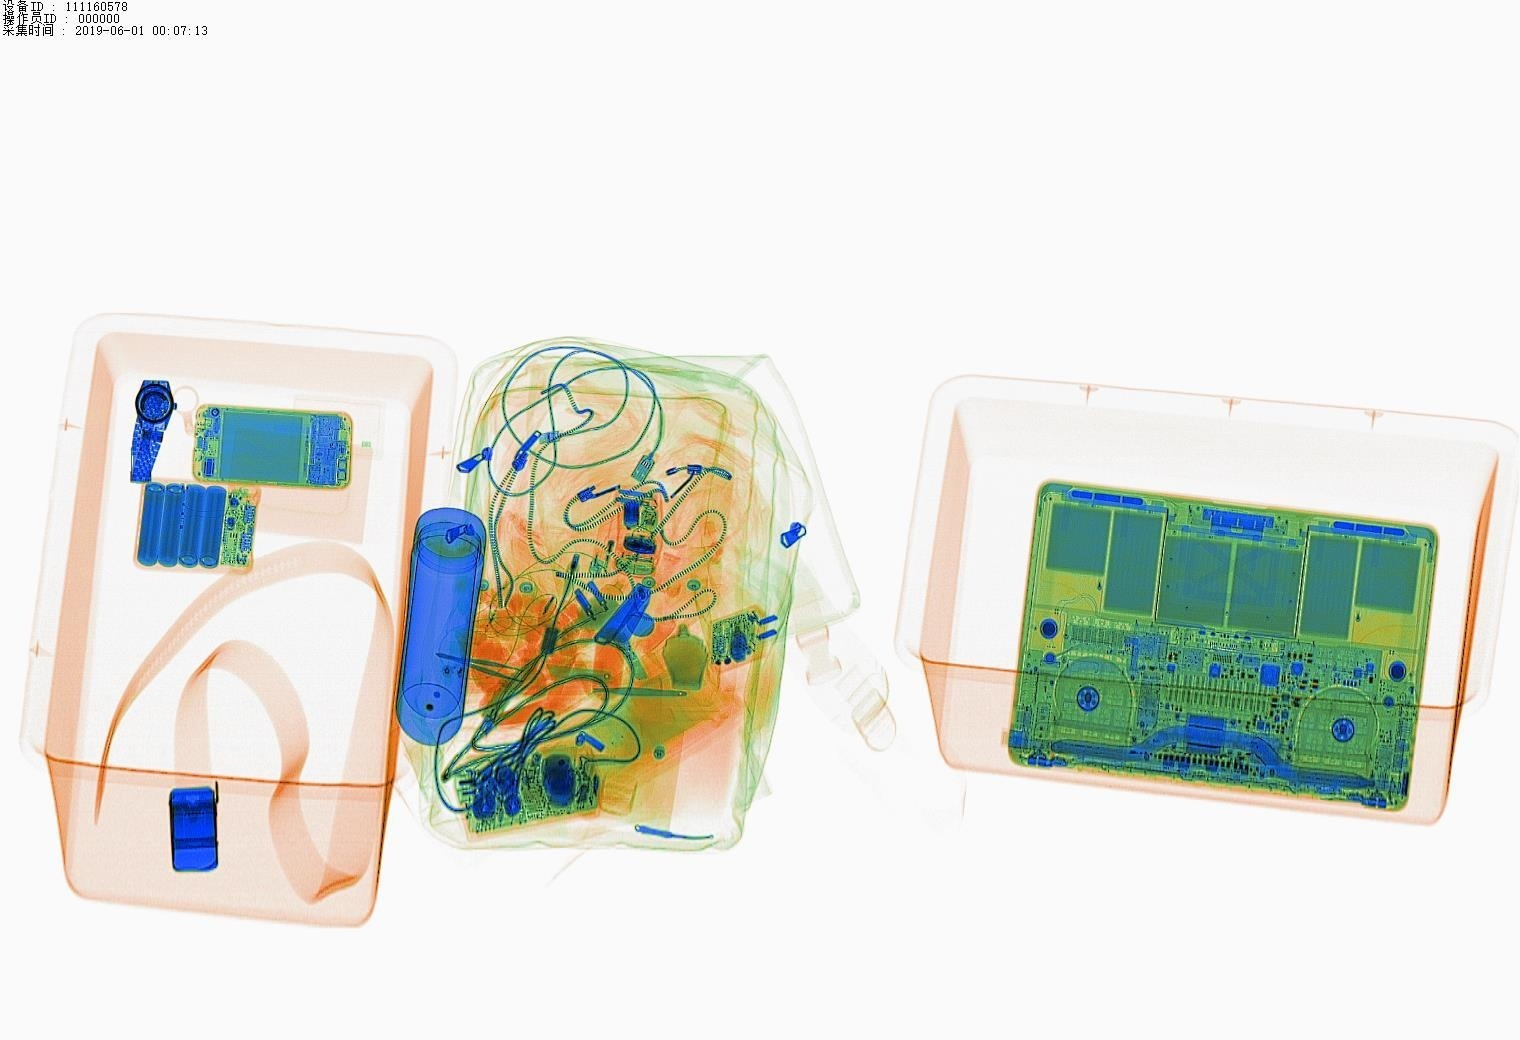NonmetallicFire: (571, 486, 627, 585)
